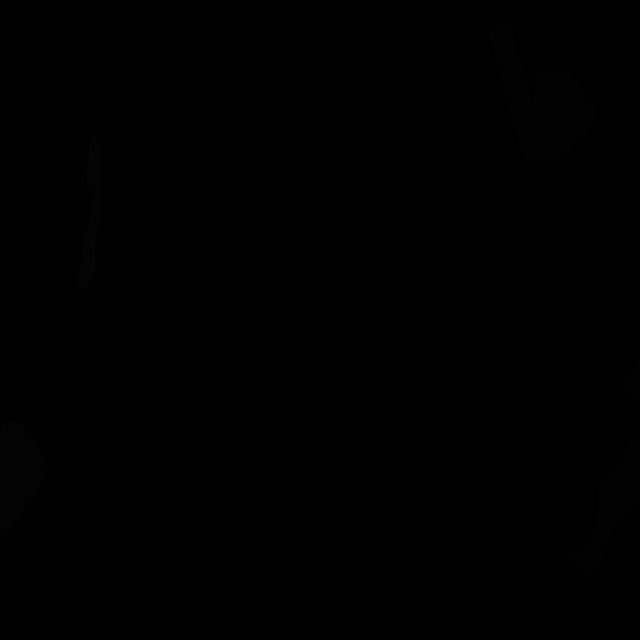cardboard: (489, 15, 597, 166), (563, 433, 640, 576), (624, 357, 640, 401)
soft_plastic: (0, 420, 48, 537), (77, 136, 101, 291)
